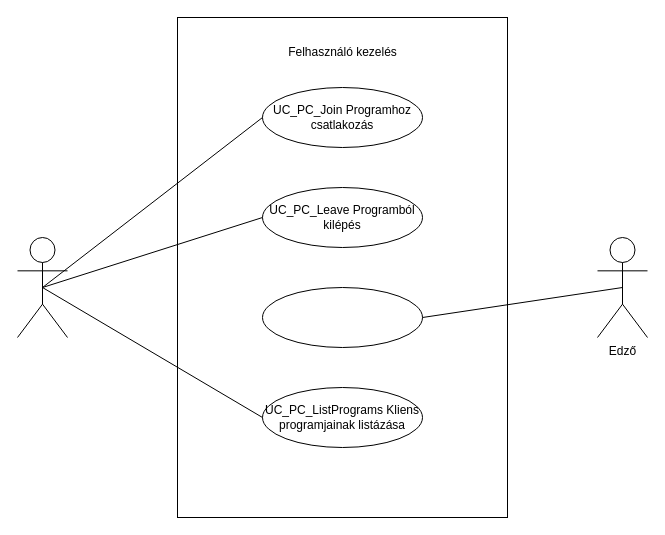
This 665x535 diagram has some shape labels left out. Each missing label, with the centre of its shape:
Kliens: the point at 42,287
UC_PC_ListClients Program klienseinek listázása: the point at 342,317
